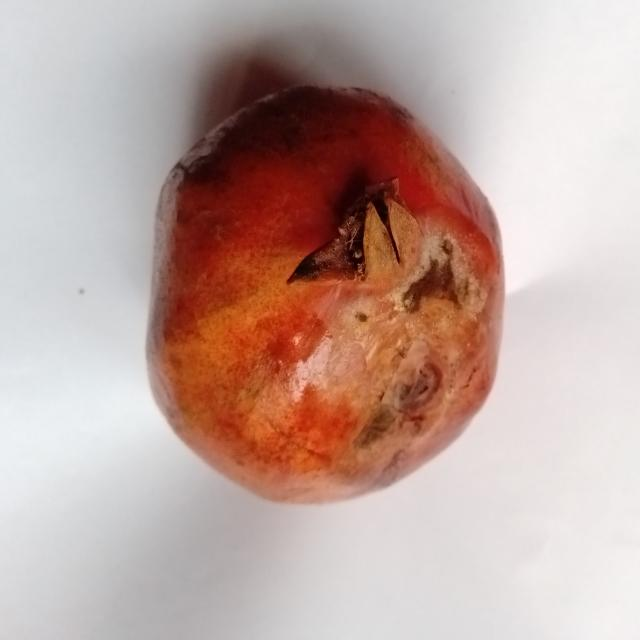Rotten: (139, 79, 511, 510)
